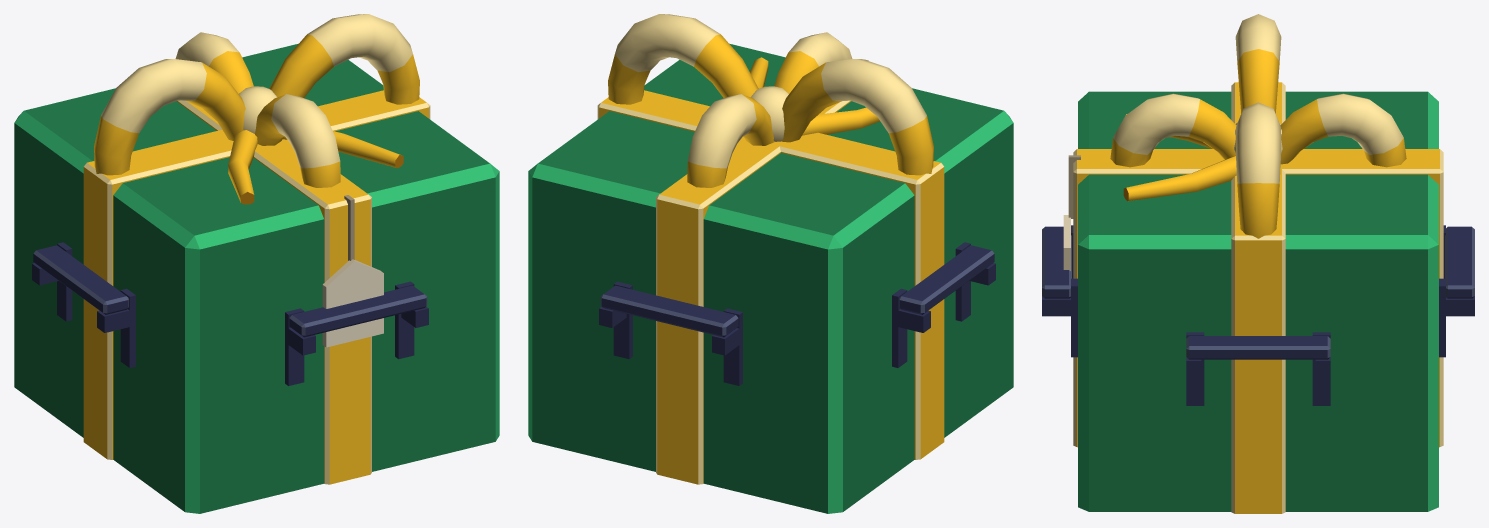
Rendered from GiantPresent.fbx.
3 renders of one model, left to right at view 1: azimuth 30°, elevation 25°; view 2: azimuth 150°, elevation 25°; view 3: azimuth 270°, elevation 25°, orthographic.
Visible parts, largest first — view 1: GiantPresent; view 2: GiantPresent; view 3: GiantPresent.
Part boxes in pixels (x1,y1,x2,y2): GiantPresent: (14, 14, 499, 513); GiantPresent: (528, 14, 1013, 513); GiantPresent: (1042, 14, 1474, 513).
Bounding box in the file's own units: 7.2 × 6.79 × 7.2.
Materials: 1 (1 with a texture image).
